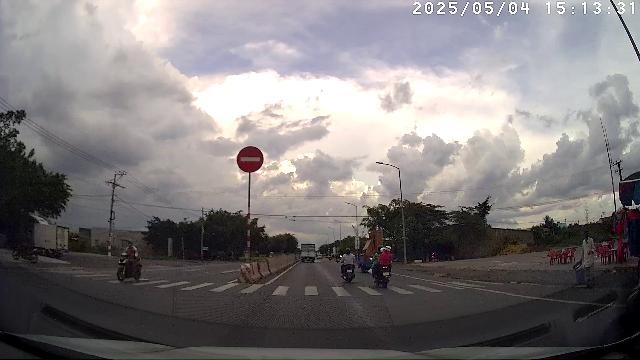102-cam-di-nguoc-chieu: (236, 146, 264, 172)
